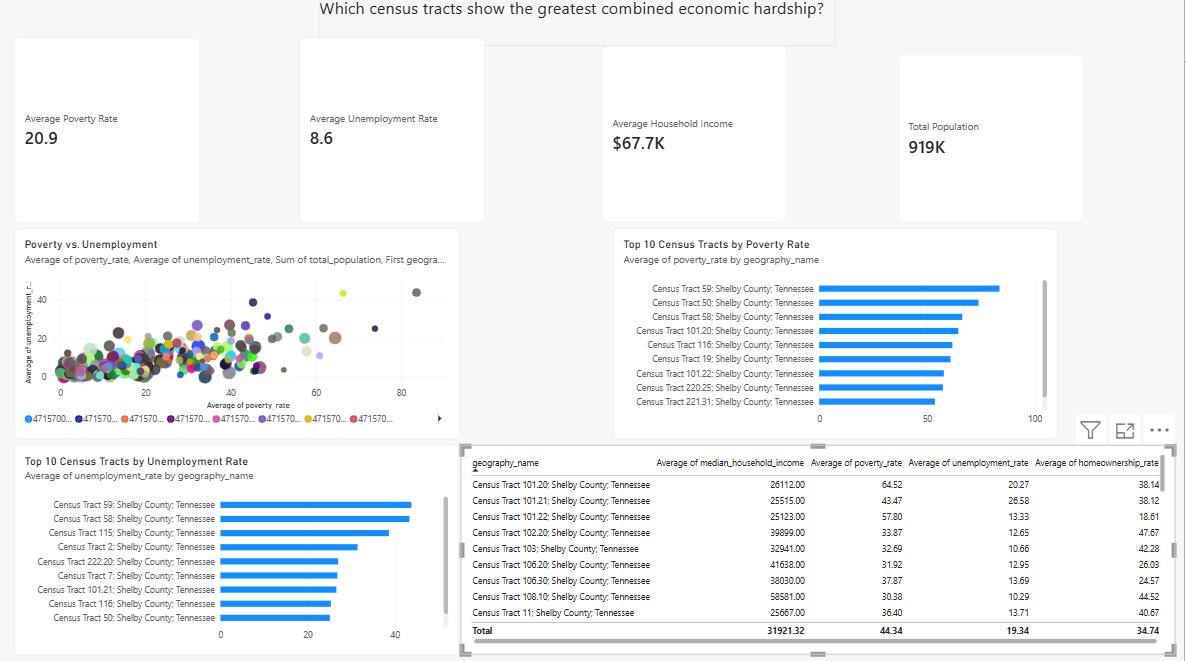

The page's visual inventory and layout, read from the dashboard file:
{"tool":"powerbi","page":{"name":"Employment & Poverty","canvas":[1920,1080],"ordinal":2},"visuals":[{"type":"textbox","box":[520.8,0,835.7,80.3],"z":0},{"type":"cardVisual","fields":{"Data":["CensusTracts.Average Poverty Rate"]},"box":[26.8,65.9,300,300],"z":1},{"type":"cardVisual","fields":{"Data":["CensusTracts.Average Unemployment Rate"]},"box":[487.8,65.9,300,300],"z":2},{"type":"cardVisual","fields":{"Data":["CensusTracts.Average Household Income"]},"box":[977.7,80.3,300.5,286.1],"z":3},{"type":"cardVisual","fields":{"Data":["CensusTracts.Total Population"]},"box":[1457.3,94.7,300.5,271.7],"z":4},{"type":"scatterChart","title":"Poverty vs. Unemployment","fields":{"Series":["CensusTracts.tract_geoid"],"Size":["Sum(CensusTracts.total_population)"],"X":["Avg(CensusTracts.poverty_rate)"],"Y":["Avg(CensusTracts.unemployment_rate)"]},"box":[26.8,376.7,720.4,339.6],"z":5},{"type":"clusteredBarChart","title":"Top 10 Census Tracts by Poverty Rate","fields":{"Category":["CensusTracts.geography_name"],"Y":["Avg(CensusTracts.poverty_rate)"]},"box":[995.6,377,720,340],"z":6},{"type":"clusteredBarChart","title":"Top 10 Census Tracts by Unemployment Rate","fields":{"Category":["CensusTracts.geography_name"],"Y":["Avg(CensusTracts.unemployment_rate)"]},"box":[27,727,720,340],"z":7},{"type":"tableEx","fields":{"Values":["CensusTracts.geography_name","Avg(CensusTracts.median_household_income)","Avg(CensusTracts.poverty_rate)","Avg(CensusTracts.unemployment_rate)","Avg(CensusTracts.homeownership_rate)"]},"box":[747.8,726.9,1158.1,339.5],"z":8}]}

Visuals, with their boxes in screenshot pixels (x1, y1, x2, y2), scaled from the page's 1920x1080 canvas onto the 1186x661 screenshot:
textbox: bbox=[322, 0, 838, 49]
cardVisual - CensusTracts.Average Poverty Rate: bbox=[17, 40, 202, 224]
cardVisual - CensusTracts.Average Unemployment Rate: bbox=[301, 40, 487, 224]
cardVisual - CensusTracts.Average Household Income: bbox=[604, 49, 790, 224]
cardVisual - CensusTracts.Total Population: bbox=[900, 58, 1086, 224]
"Poverty vs. Unemployment" scatterChart: bbox=[17, 231, 462, 438]
"Top 10 Census Tracts by Poverty Rate" clusteredBarChart: bbox=[615, 231, 1060, 439]
"Top 10 Census Tracts by Unemployment Rate" clusteredBarChart: bbox=[17, 445, 461, 653]
tableEx - CensusTracts.geography_name x Avg(CensusTracts.median_household_income): bbox=[462, 445, 1177, 653]
